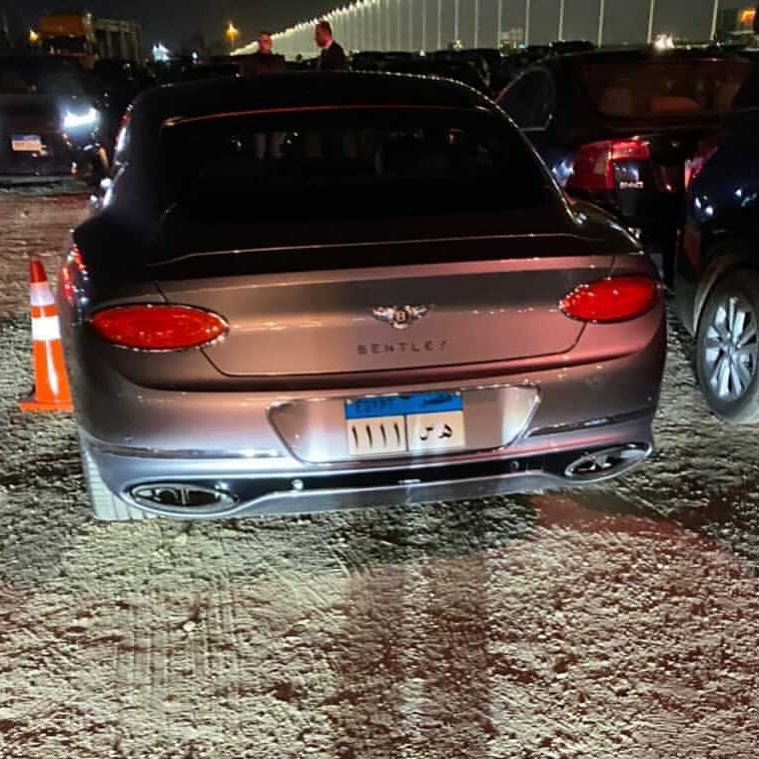carpl: (330, 381, 479, 454)
